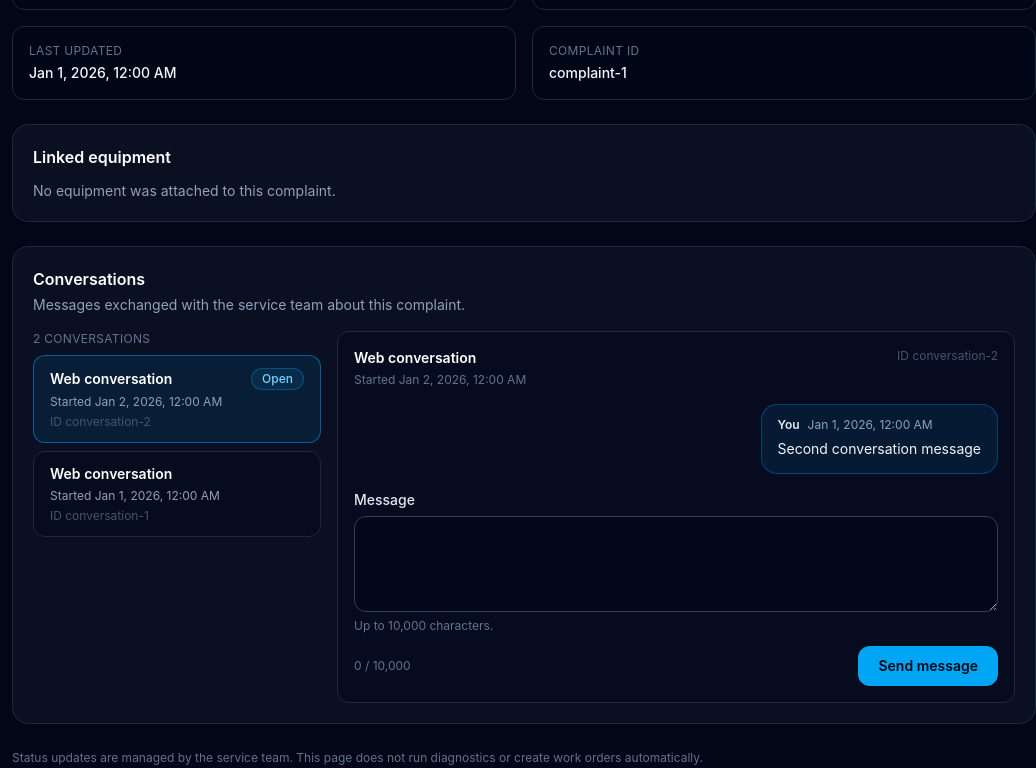
complaint detail lists multiple conversations and switches message history
(page scrolled)
Expected: the text "Second conversation message" is shown, [778,437,981,461]
Click the button with test id "conversation-option-conversation-1" at (177, 494), box [33,451,321,537]
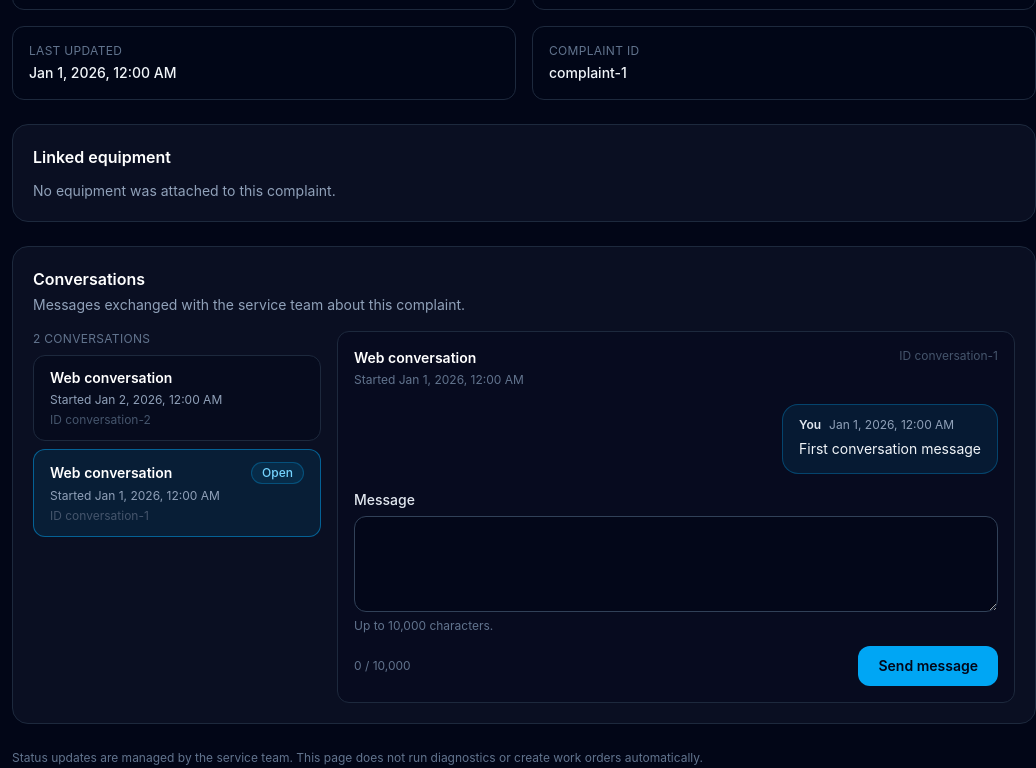
Expected: the text "First conversation message" is shown, [799,437,981,461]
Expected: the text "Second conversation message" is gone
